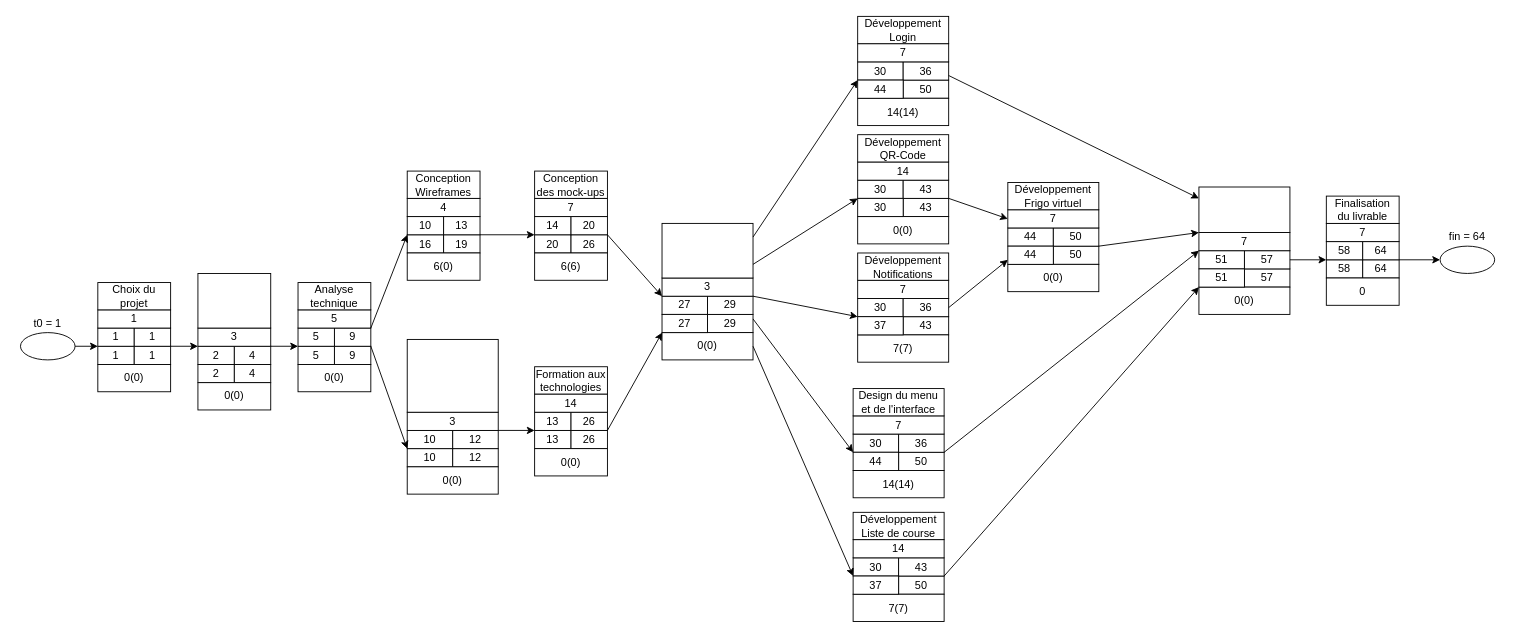
This 1514x637 diagram has some shape labels left out. The centre of each missing label's shape, as x and y in pixels:
DEBUT: (x=47, y=346)
FIN: (x=1467, y=259)
Intégration du design aux développements: (x=1244, y=209)
Mise en place et configuration du projet: (x=707, y=250)
Préparation au premier meeting: (x=234, y=300)
Préparation de l'environnement de développement: (x=452, y=375)
